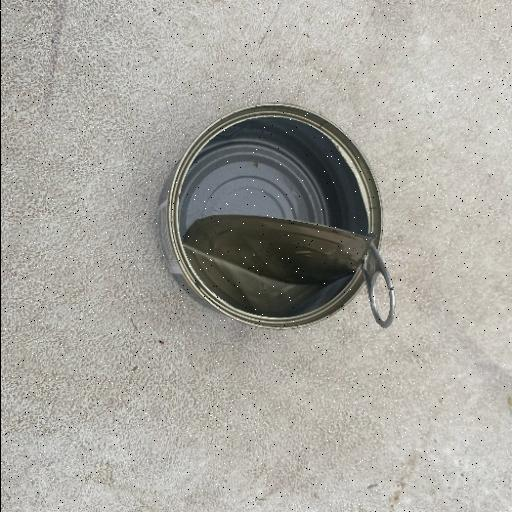Metal: (154, 102, 396, 334)
